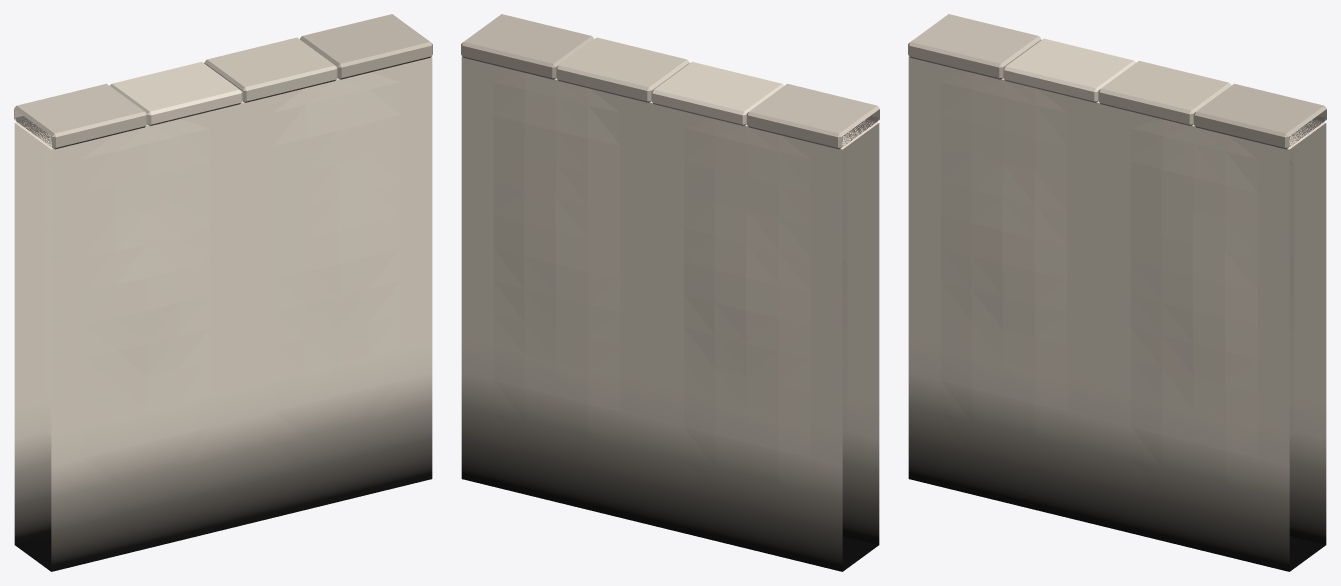
The model's file is SM_VKI_Wall_Stone_Plain_300_Full.fbx.
The picture shows the model from 3 angles, left to right: view 1: azimuth 30°, elevation 25°; view 2: azimuth 150°, elevation 25°; view 3: azimuth 330°, elevation 25°; orthographic projection.
Visible parts, largest first — view 1: SM_VKI_Wall_Stone_Plain_300_Full.001; view 2: SM_VKI_Wall_Stone_Plain_300_Full.001; view 3: SM_VKI_Wall_Stone_Plain_300_Full.001.
Part boxes in pixels (left/top/right/bottom): SM_VKI_Wall_Stone_Plain_300_Full.001: left=14, top=14, right=432, bottom=571; SM_VKI_Wall_Stone_Plain_300_Full.001: left=461, top=14, right=879, bottom=571; SM_VKI_Wall_Stone_Plain_300_Full.001: left=908, top=14, right=1326, bottom=571.
Bounding box in the file's own units: 3 × 3.3 × 0.56.
